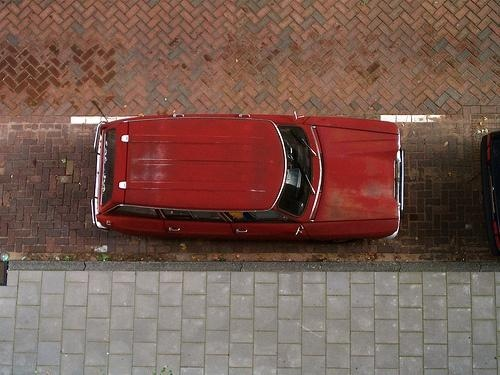car: (92, 110, 408, 241)
